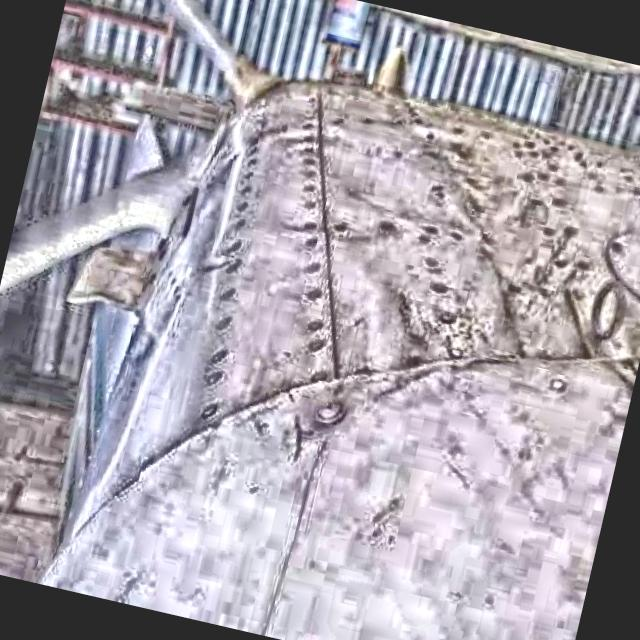dent: (284, 243, 418, 406), (320, 134, 446, 250)
